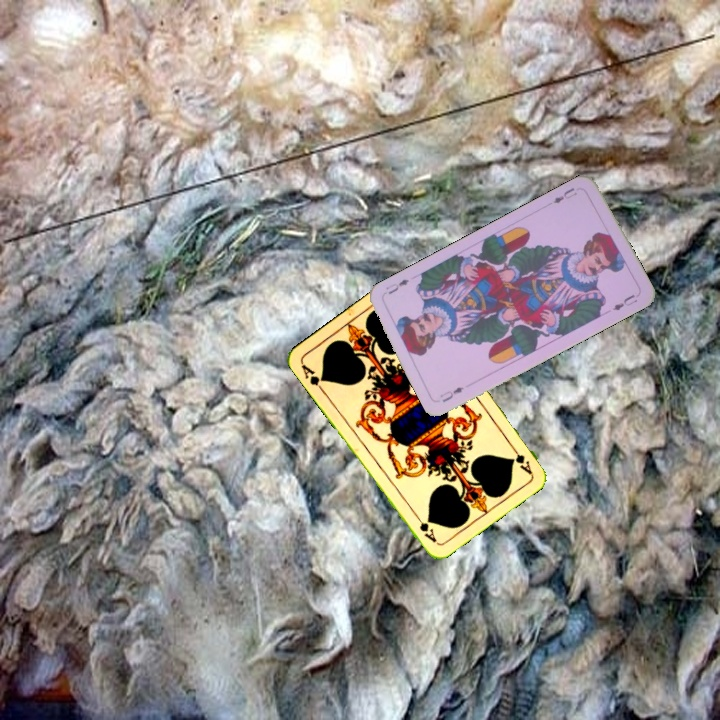EU: (435, 382, 467, 405), (549, 184, 580, 206)
GA: (297, 359, 327, 394), (506, 441, 535, 477)
